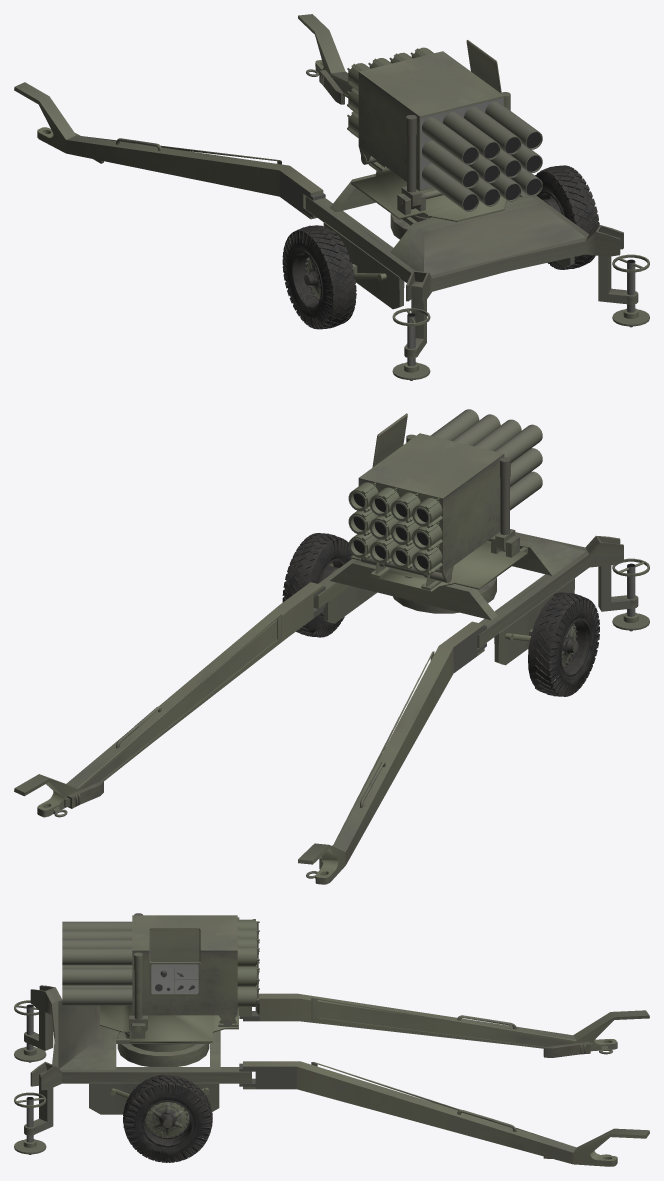
Rendered from rocket_tower.glb.
3 views of the same model, one above another, from view 1: azimuth 30°, elevation 25°; view 2: azimuth 150°, elevation 25°; view 3: azimuth 270°, elevation 25° (orthographic). The views are drawn at different scales.
Visible parts, largest first — view 1: RAK12_body, RAK12_rockets, RAK12_turret; view 2: RAK12_body, RAK12_rockets, RAK12_turret; view 3: RAK12_body, RAK12_rockets, RAK12_turret.
Part boxes in pixels (x1,y1,x2,y2): RAK12_body: (14, 14, 649, 380); RAK12_rockets: (347, 40, 542, 211); RAK12_turret: (351, 92, 510, 222); RAK12_body: (14, 532, 649, 884); RAK12_rockets: (348, 409, 542, 583); RAK12_turret: (351, 434, 527, 592); RAK12_body: (14, 985, 649, 1166); RAK12_rockets: (62, 915, 259, 1026); RAK12_turret: (100, 913, 238, 1042).
Bounding box in the file's own units: 3.75 × 2.76 × 8.03.
Materials: 1 (1 with a texture image).
